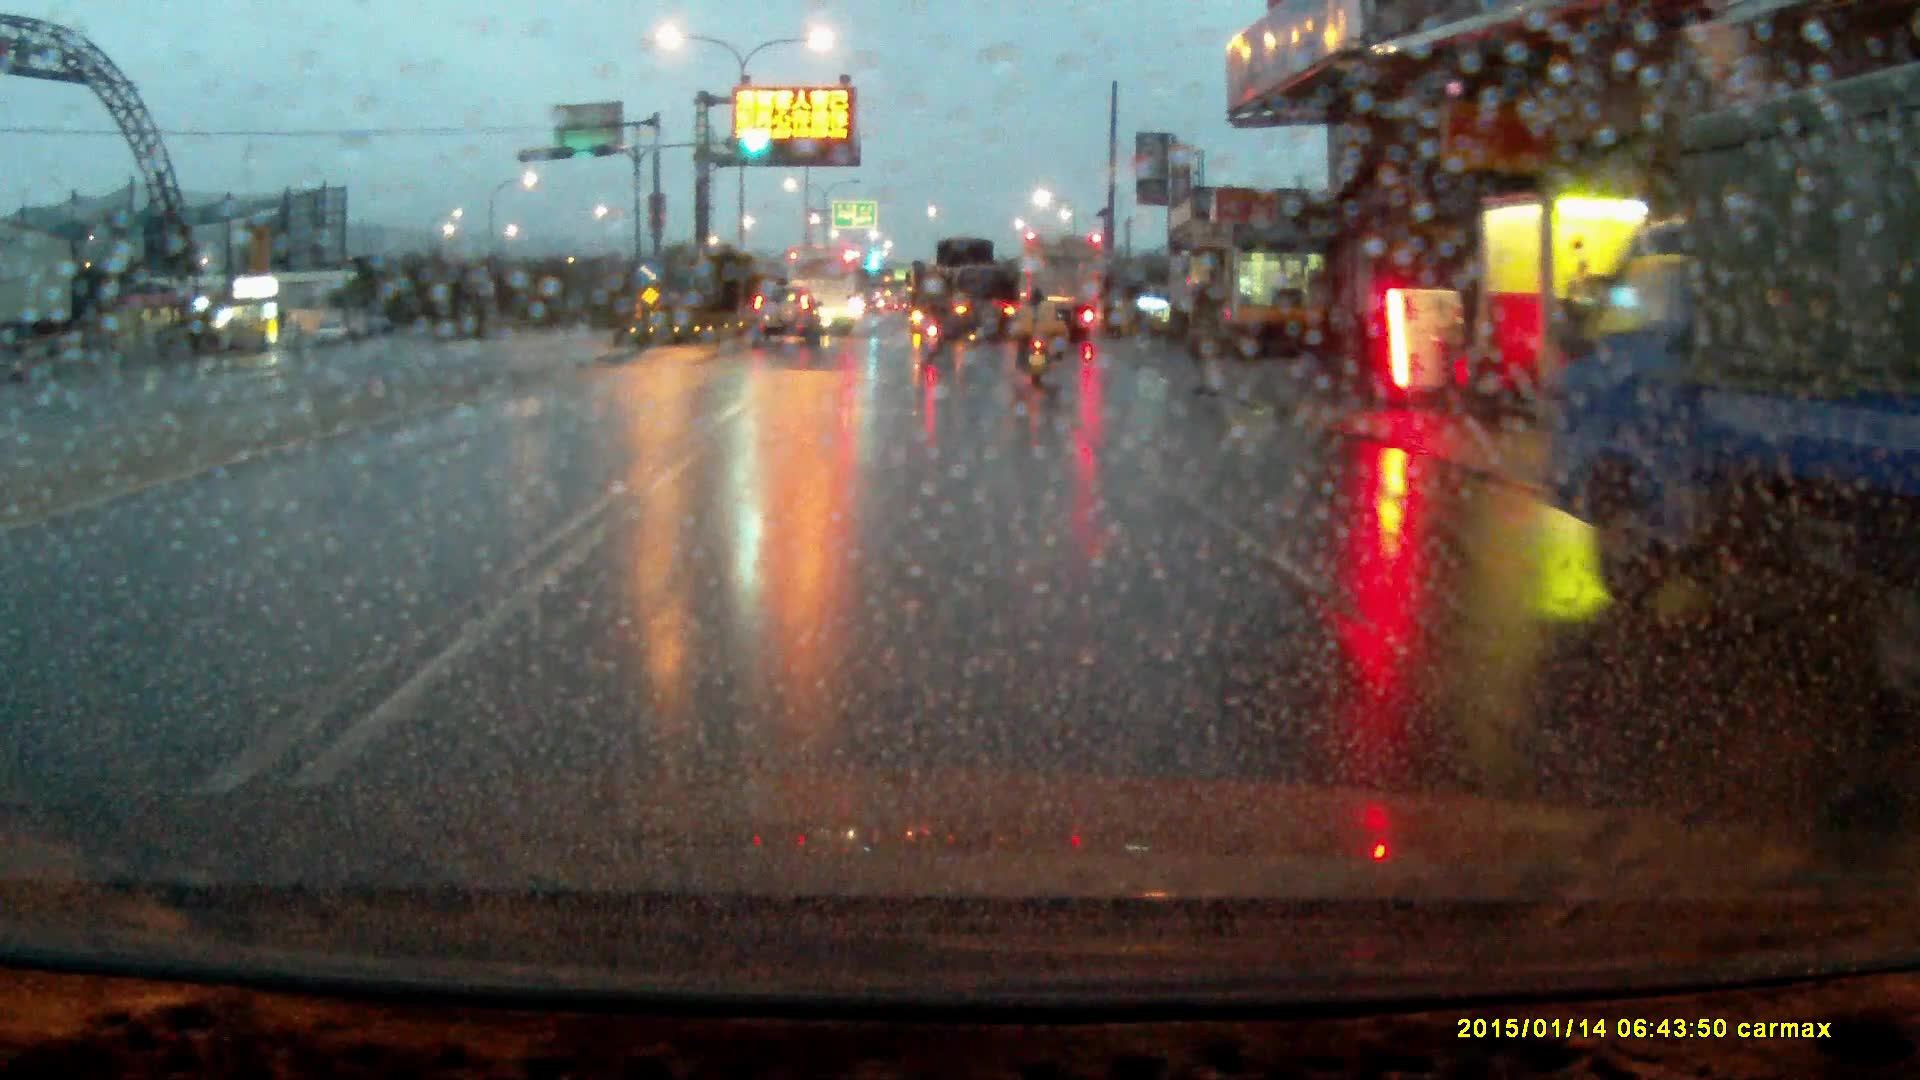rider: (1017, 285, 1056, 389), (919, 285, 945, 359)
vehicle: (1542, 110, 1920, 607), (922, 236, 1024, 346), (1022, 233, 1106, 342), (786, 242, 861, 331), (751, 279, 819, 343)
